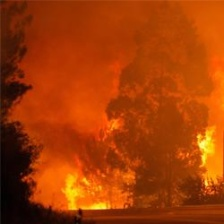fire: (56, 97, 221, 219)
